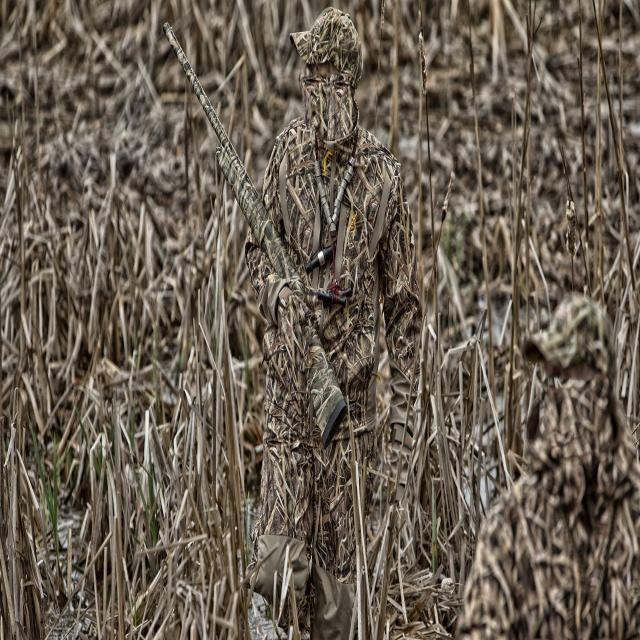Camouflage: (163, 10, 425, 633), (456, 287, 640, 639)
